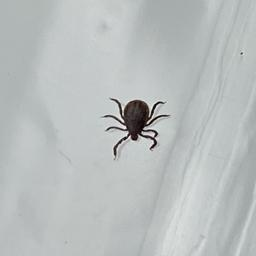Ixodes scapularis: (102, 96, 170, 159)
